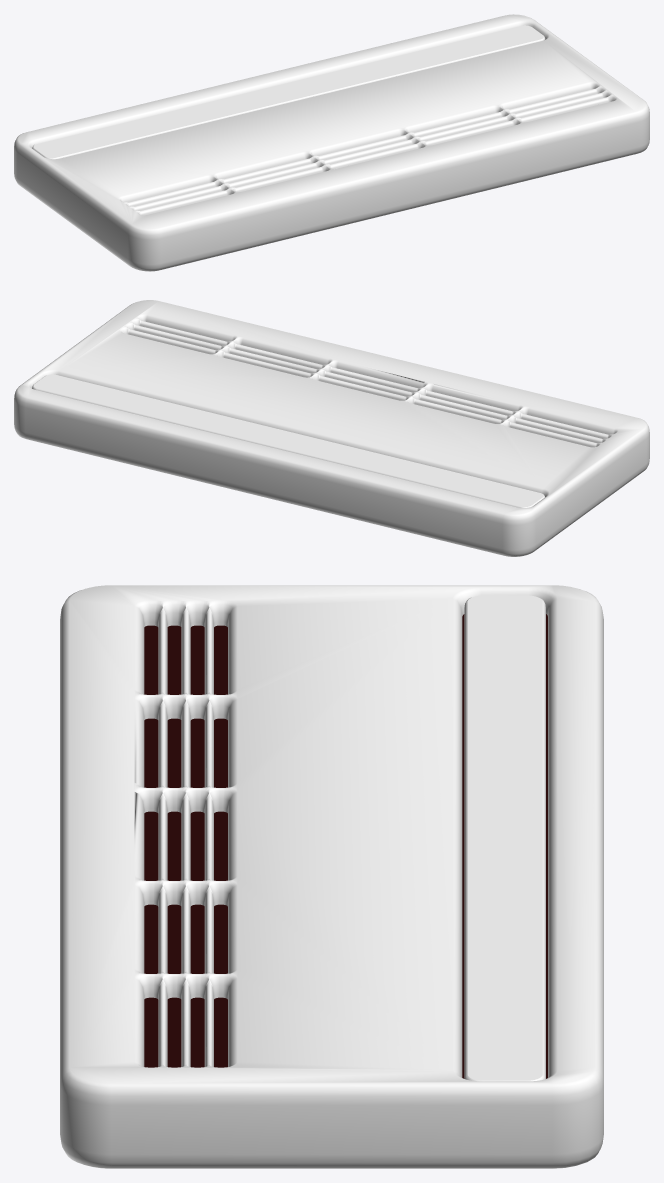
Rendered from 1WayIndoorUnit.fbx.
3 views of the same model, one above another, from view 1: azimuth 30°, elevation 25°; view 2: azimuth 150°, elevation 25°; view 3: azimuth 270°, elevation 25° (orthographic). The views are drawn at different scales.
Visible parts, largest first — view 1: 2-11_1way_system_airconditioner, 2-11_1way_system_airconditioner.001; view 2: 2-11_1way_system_airconditioner, 2-11_1way_system_airconditioner.001; view 3: 2-11_1way_system_airconditioner, 2-11_1way_system_airconditioner.001.
Part boxes in pixels (x1,y1,x2,y2): 2-11_1way_system_airconditioner: [14, 14, 649, 271]; 2-11_1way_system_airconditioner.001: [32, 25, 545, 159]; 2-11_1way_system_airconditioner: [14, 300, 649, 556]; 2-11_1way_system_airconditioner.001: [32, 374, 544, 507]; 2-11_1way_system_airconditioner: [60, 585, 603, 1168]; 2-11_1way_system_airconditioner.001: [464, 595, 545, 1081].
Size of the model in its own units: 1.1 by 0.086 by 0.4977.
2 materials, 2 textured.
